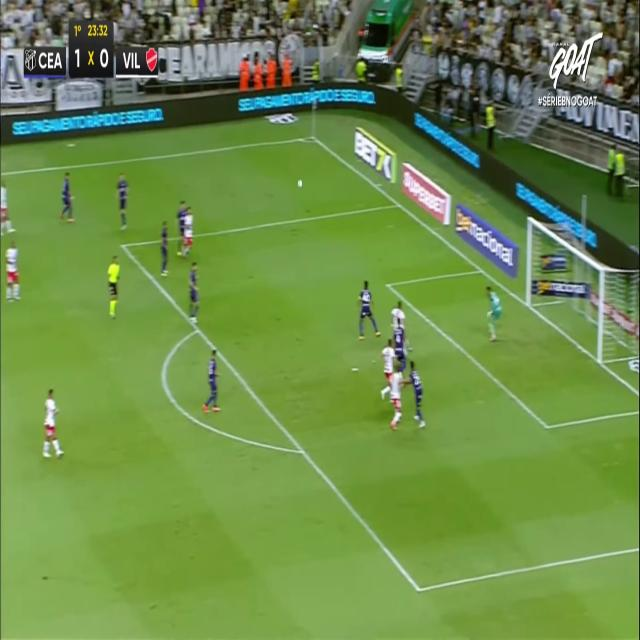ball: (298, 178, 304, 188)
goalkeeper: (486, 284, 504, 339)
player: (403, 359, 425, 427), (357, 278, 381, 339), (42, 387, 63, 456), (202, 349, 221, 412), (380, 337, 397, 403), (393, 316, 408, 378), (0, 178, 16, 236), (5, 239, 20, 300), (178, 204, 194, 257), (390, 297, 406, 348), (187, 261, 200, 323), (60, 170, 75, 222), (116, 172, 129, 229), (160, 220, 169, 275)
referee: (106, 254, 119, 317)
